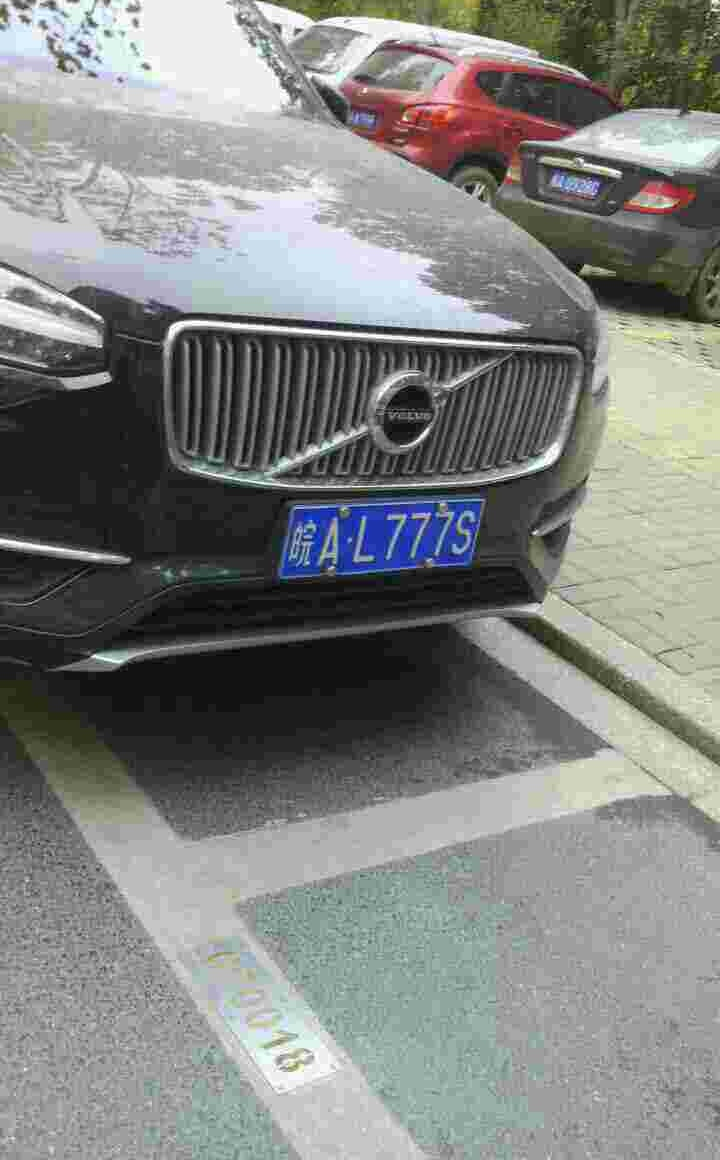plate: (284, 492, 495, 582)
